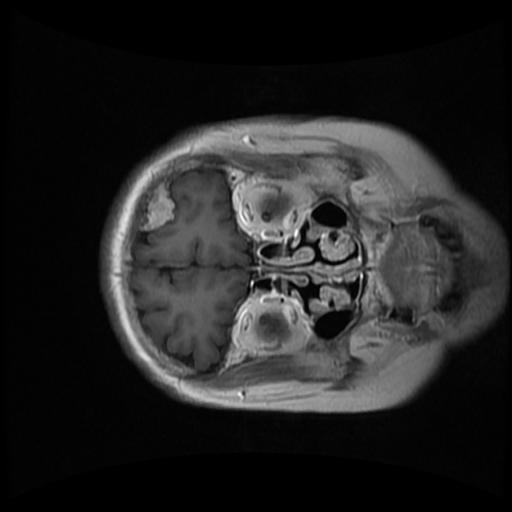meningioma: (140, 182, 175, 232)
